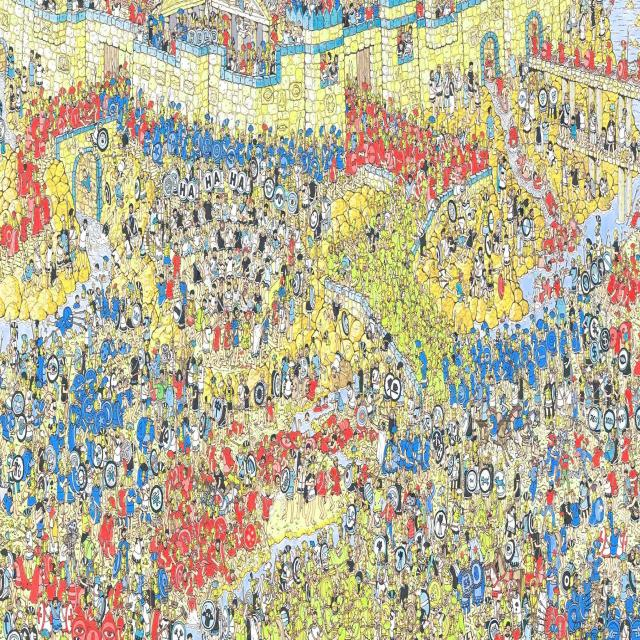waldo: (14, 595, 20, 610)
